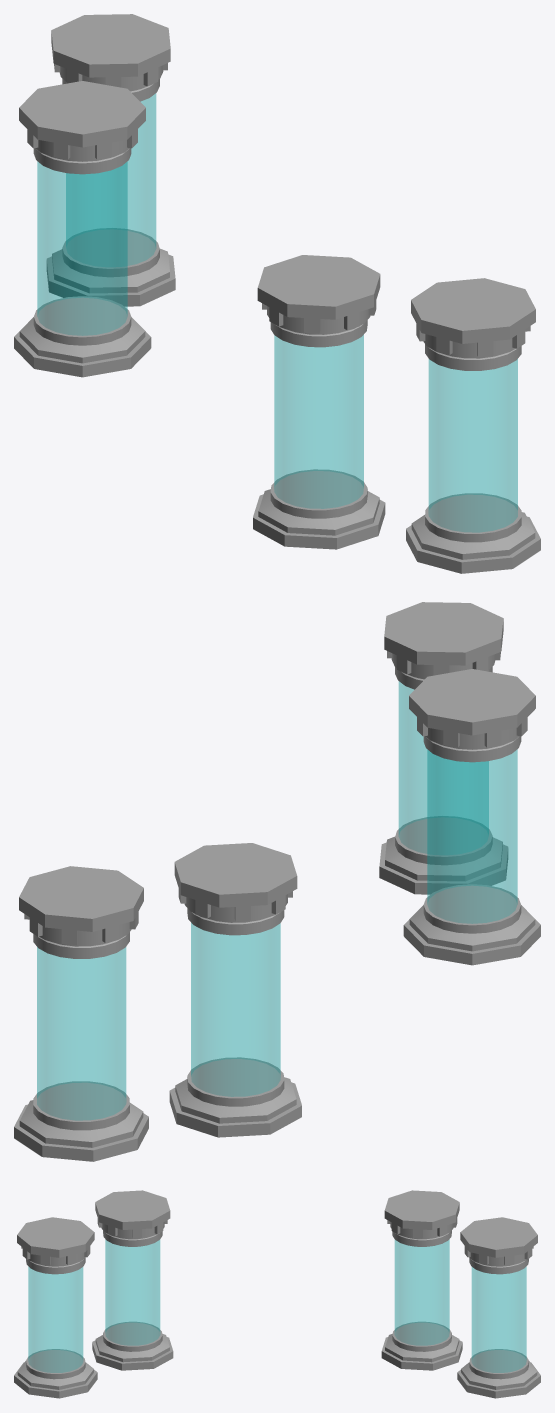
File: Incubadoras.fbx
3 views of the same model, one above another, from view 1: azimuth 30°, elevation 25°; view 2: azimuth 150°, elevation 25°; view 3: azimuth 270°, elevation 25° (orthographic). The views are drawn at different scales.
Visible parts, largest first — view 1: Incubadoras; view 2: Incubadoras; view 3: Incubadoras.
Part boxes in pixels (bbox=[...]): Incubadoras: bbox=[14, 14, 540, 573]; Incubadoras: bbox=[14, 602, 540, 1161]; Incubadoras: bbox=[14, 1190, 540, 1398].
Size of the model in its own units: 376 by 416 by 1348.
